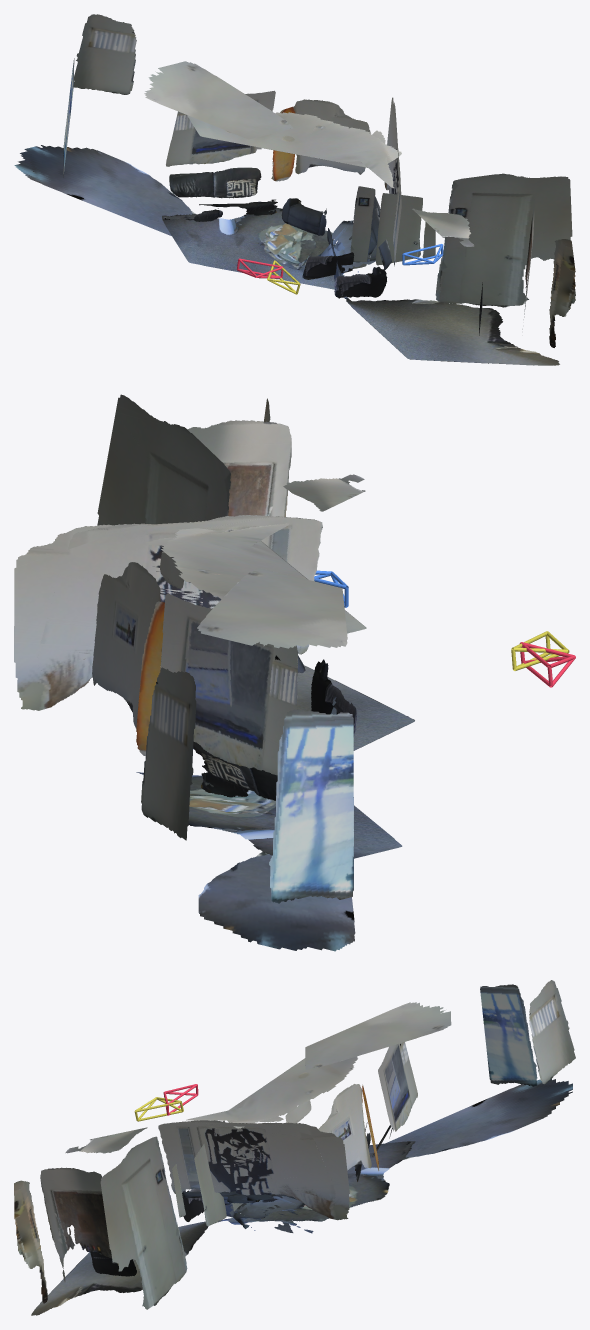
The model's file is pred.glb.
3 views of the same model, one above another, from view 1: azimuth 30°, elevation 25°; view 2: azimuth 150°, elevation 25°; view 3: azimuth 270°, elevation 25° (orthographic). The views are drawn at different scales.
Parts seen in each view (by area): view 1: Node; view 2: Node; view 3: Node.
Part boxes in pixels (x1,y1,x2,y2): Node: (14,14,575,365); Node: (14,394,575,951); Node: (14,980,575,1315).
Bounding box in the file's own units: 7.15 × 4.34 × 9.75.
Materials: 41 (38 with a texture image).
